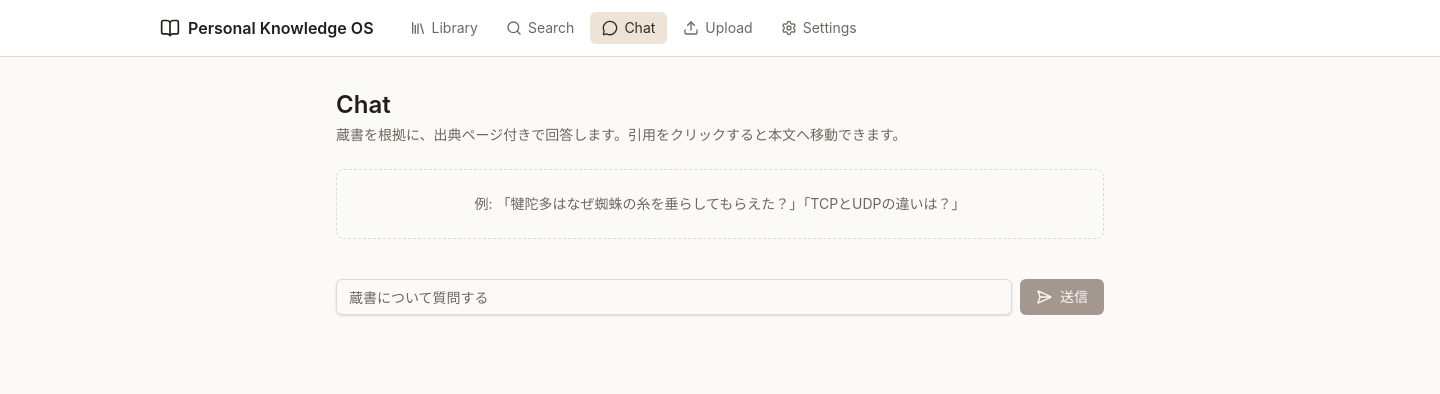
Scenario: ChatPage › 蔵書外の回答には一般知識バッジを表示する
Type "フランス革命は？" into the field labelled "質問" at (674, 297), box x1=336 y1=279 x2=1012 y2=315
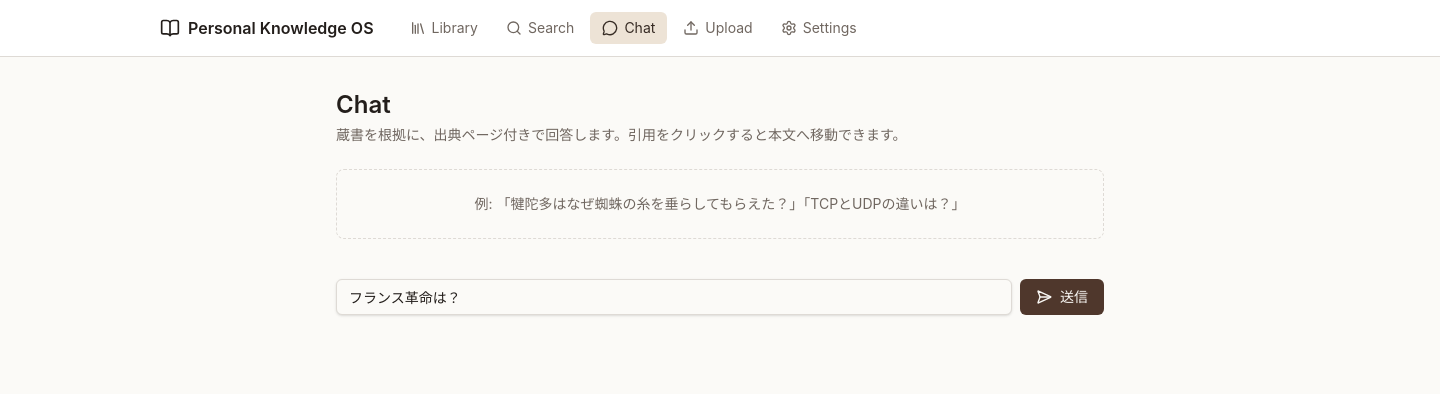
Click the button "送信" at (1062, 297), box x1=1020 y1=279 x2=1104 y2=315
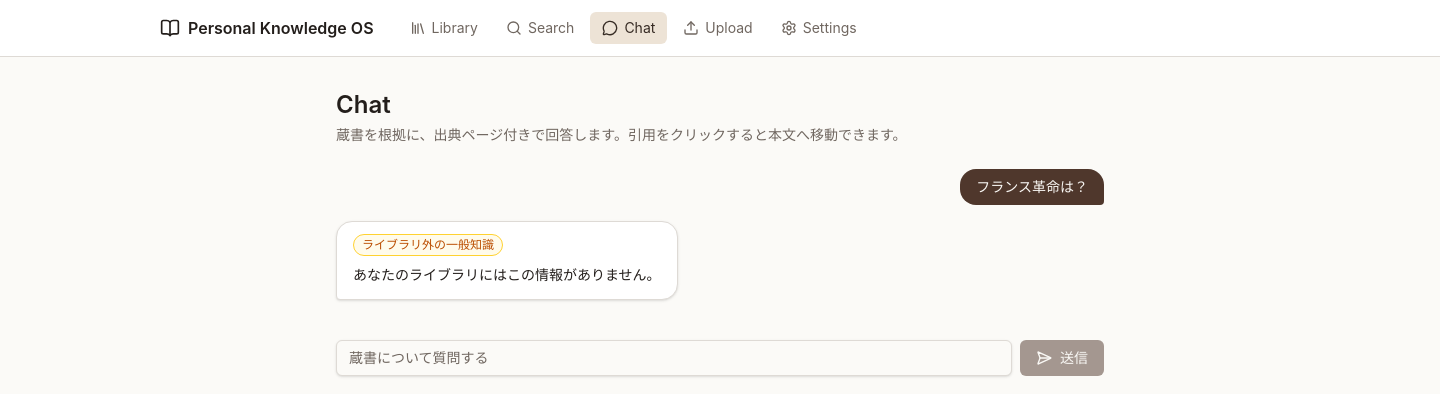
Result: the text "ライブラリ外の一般知識" is shown at x1=353 y1=234 x2=503 y2=256
